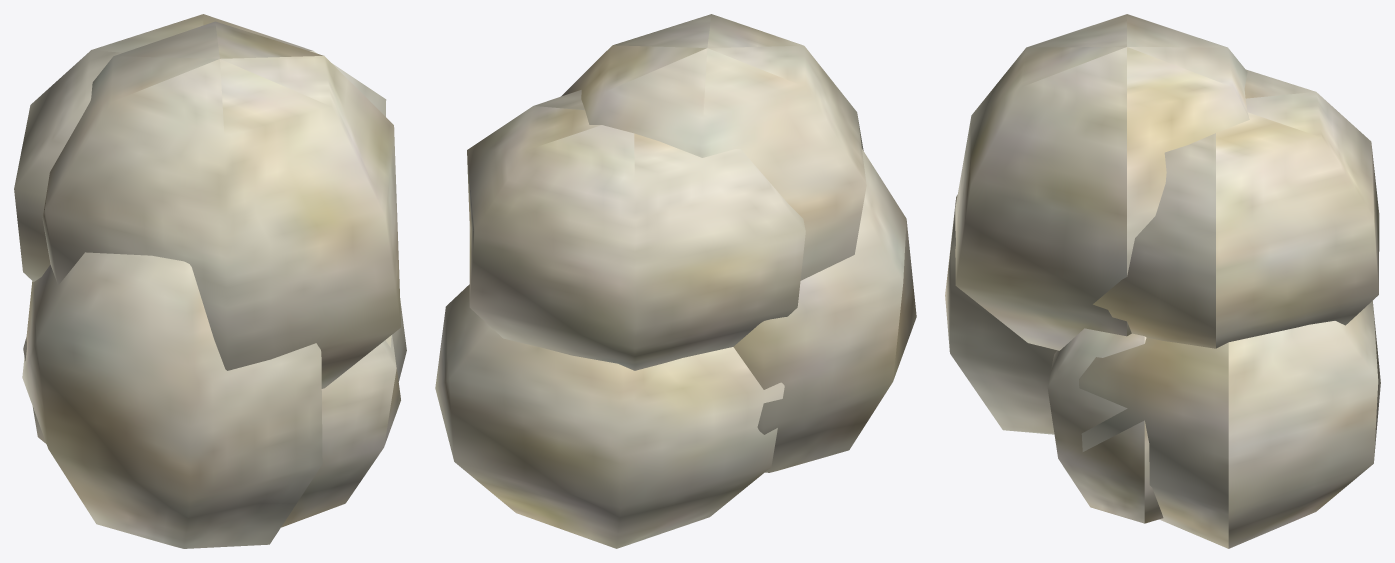
The model's file is popcorn_kernel.glb.
3 views of the same model, side by side, from view 1: azimuth 30°, elevation 25°; view 2: azimuth 150°, elevation 25°; view 3: azimuth 270°, elevation 25° (orthographic). The views are drawn at different scales.
Visible parts, largest first — view 1: popcorn_kernel; view 2: popcorn_kernel; view 3: popcorn_kernel.
Boxes of the visible parts, x1=… form: popcorn_kernel: x1=14, y1=14, x2=406, y2=548; popcorn_kernel: x1=435, y1=14, x2=916, y2=548; popcorn_kernel: x1=945, y1=14, x2=1380, y2=548.
Size of the model in its own units: 0.0189 by 0.0202 by 0.0178.
1 material, 1 textured.
